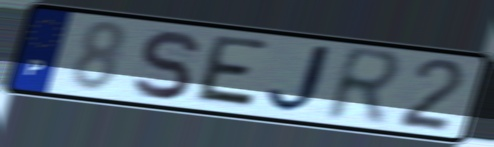2: (396, 56, 469, 135)
8: (67, 19, 129, 96)
E: (189, 32, 273, 113)
J: (264, 42, 342, 116)
R: (321, 43, 407, 129)
S: (129, 28, 202, 102)
